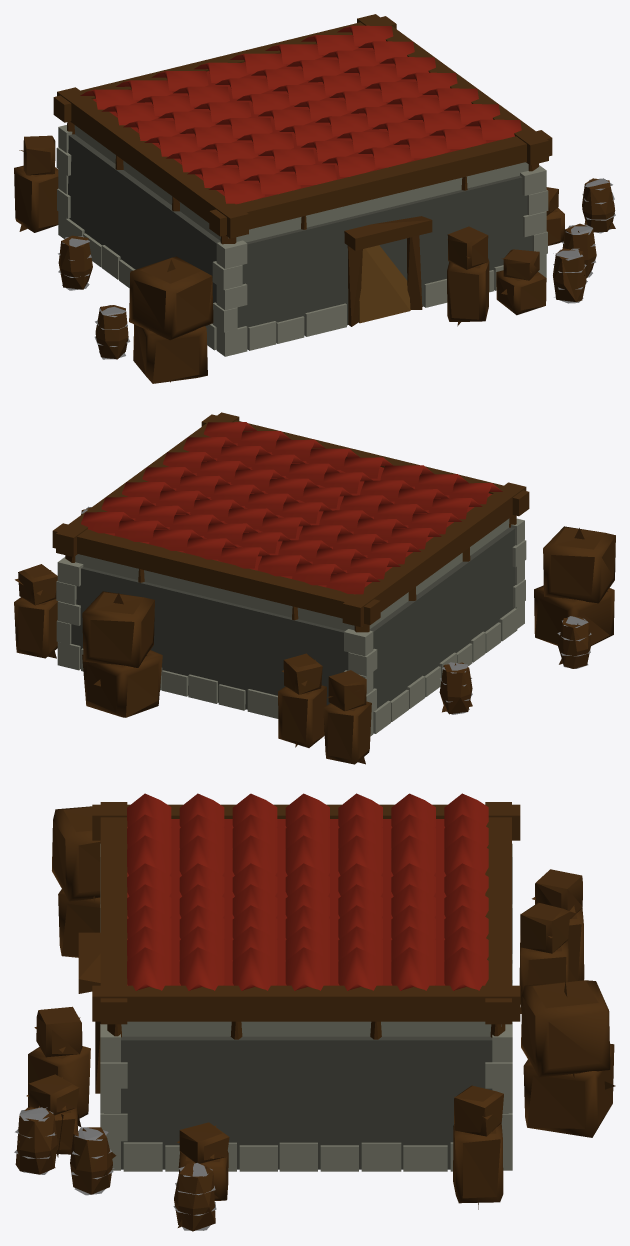
Rendered from Storage_SecondAge_Level1.fbx.
3 views of the same model, one above another, from view 1: azimuth 30°, elevation 25°; view 2: azimuth 150°, elevation 25°; view 3: azimuth 270°, elevation 25° (orthographic). The views are drawn at different scales.
Visible parts, largest first — view 1: High_Storage_SecondAge_Level1; view 2: High_Storage_SecondAge_Level1; view 3: High_Storage_SecondAge_Level1.
Boxes of the visible parts, x1,y1,x2,y2 form: High_Storage_SecondAge_Level1: (14,14,615,383); High_Storage_SecondAge_Level1: (14,412,615,764); High_Storage_SecondAge_Level1: (14,793,614,1231).
Size of the model in its own units: 172 by 53.66 by 138.
